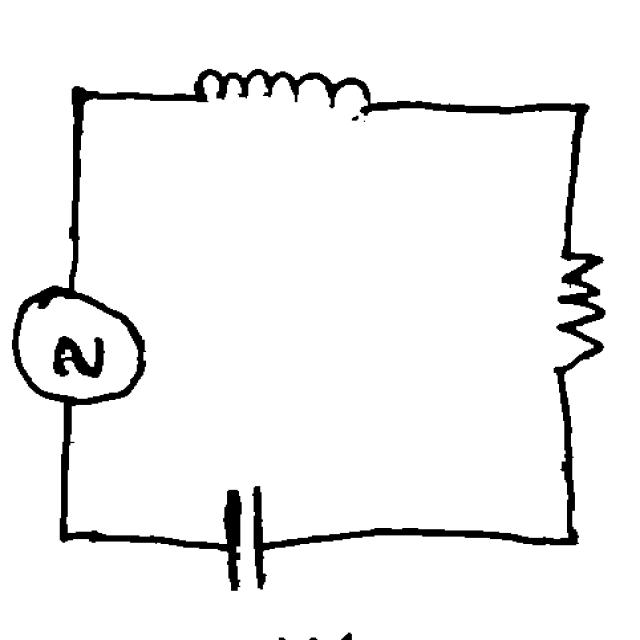ac: (5, 280, 154, 410)
capacitor: (211, 470, 280, 603)
inductor: (188, 57, 390, 131)
resistor: (535, 229, 614, 394)
